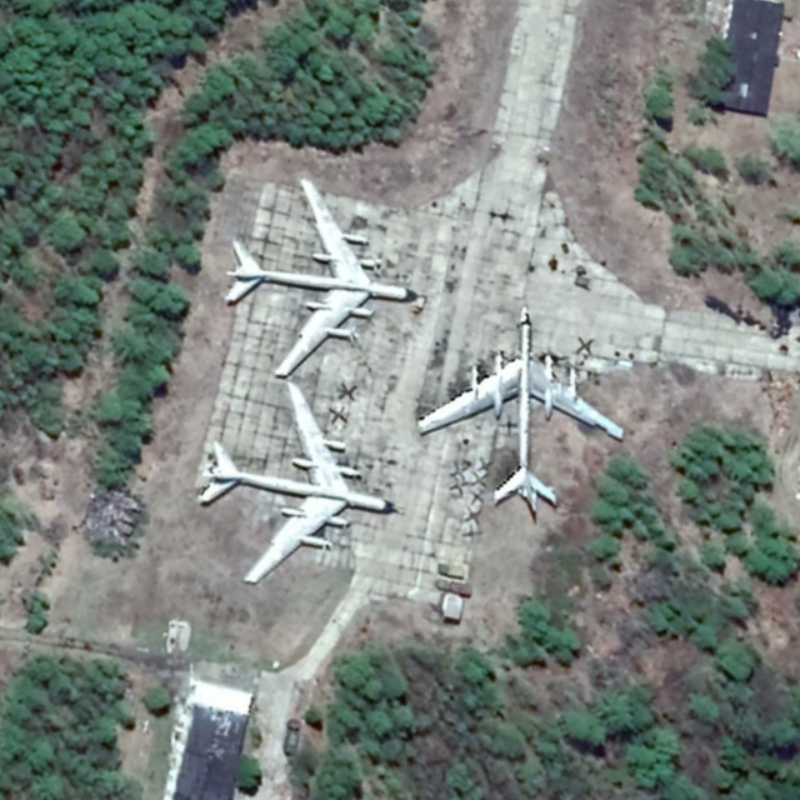A17: (411, 304, 628, 522), (196, 377, 403, 587), (221, 174, 428, 382)
